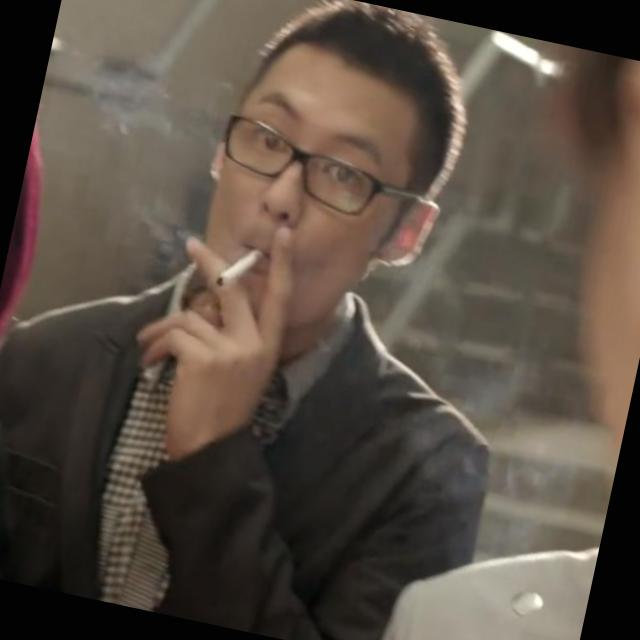cigarette: (211, 249, 260, 296)
